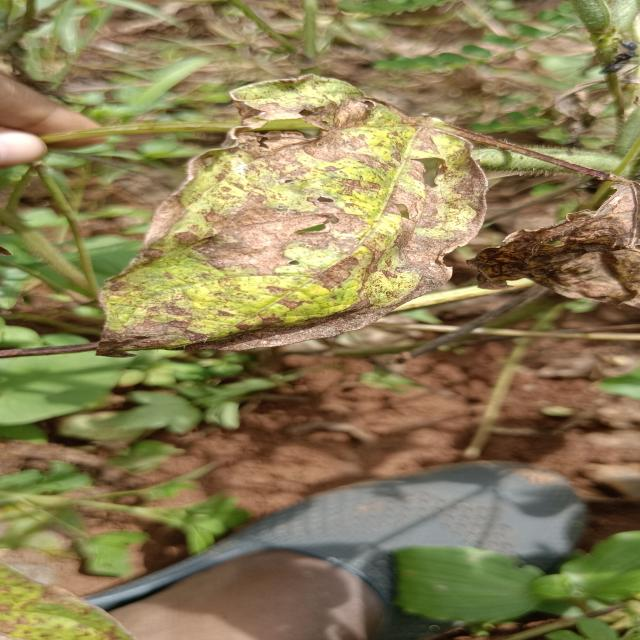Black gram_leaf spot: (88, 67, 504, 360)
